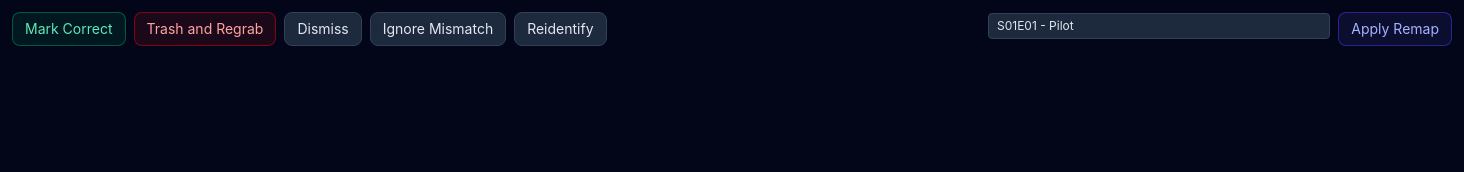
ActionBar › renders the ApiError message inline on failure
The width and height of the screenshot is (1464, 172).
Click the button "Ignore Mismatch" at (438,29), box 370,12 -> 506,46
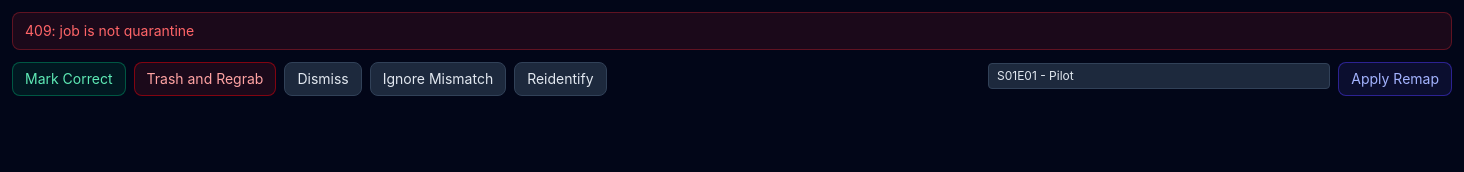
Expected: the text "409: job is not quarantine" is shown, 12,12 -> 1452,50
